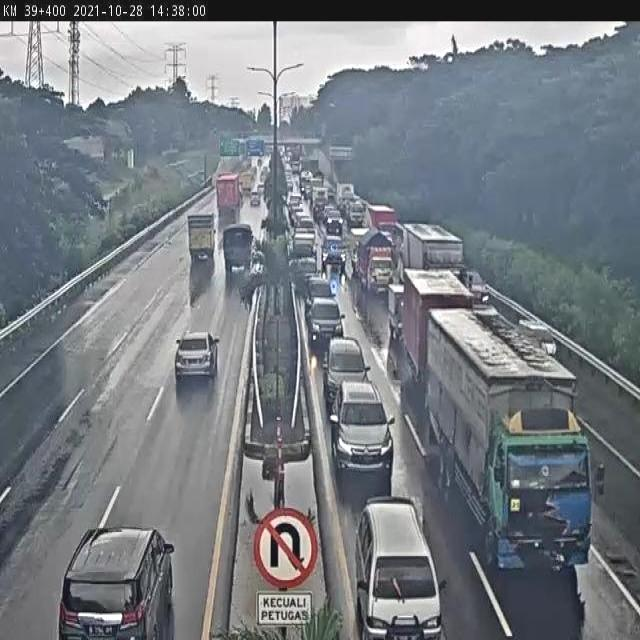Car: (328, 379, 396, 479), (321, 336, 372, 408), (303, 293, 347, 352), (174, 332, 218, 383), (517, 318, 558, 358), (302, 275, 336, 314), (321, 232, 347, 276), (458, 268, 488, 304), (291, 255, 318, 288), (324, 208, 344, 233), (250, 191, 262, 207), (256, 181, 265, 193)
Truck: (426, 305, 610, 572), (58, 524, 177, 640), (399, 269, 479, 399), (398, 223, 462, 277), (357, 226, 395, 299), (221, 223, 255, 277), (186, 212, 218, 264), (386, 281, 406, 342), (215, 172, 242, 216), (365, 204, 398, 236), (348, 225, 370, 272), (345, 200, 364, 228), (336, 183, 355, 207), (240, 171, 254, 196)
Van: (353, 494, 444, 640)
